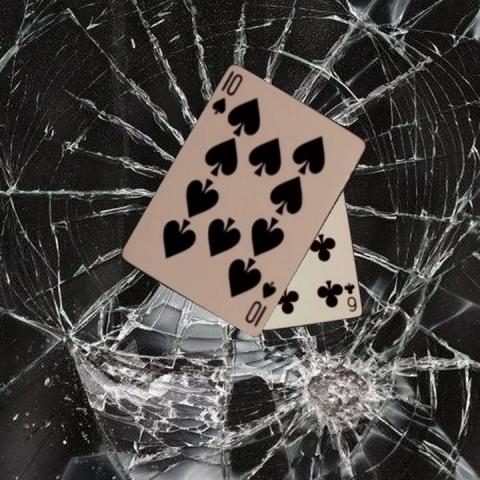10s: (242, 279, 278, 326), (208, 70, 244, 116)
6c: (341, 280, 358, 313)
